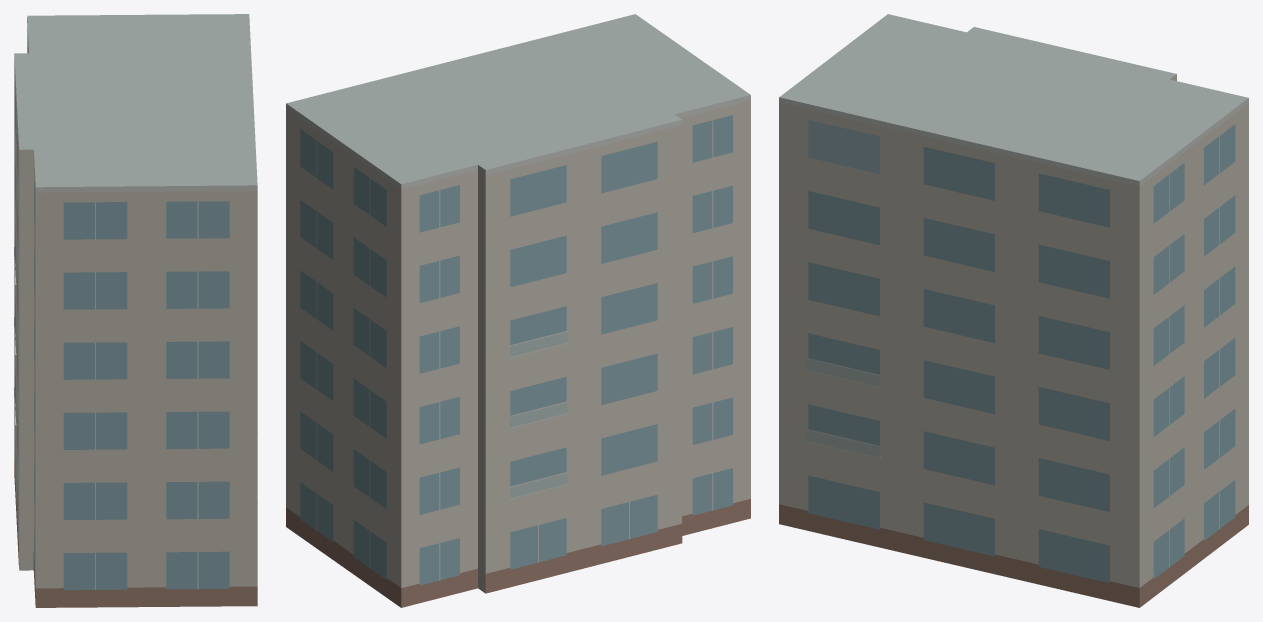
The model's file is survey-upis-32953250.glb.
The picture shows the model from 3 angles, left to right: view 1: azimuth 30°, elevation 25°; view 2: azimuth 150°, elevation 25°; view 3: azimuth 270°, elevation 25°; orthographic projection.
Parts seen in each view (by area): view 1: survey-upis-32953250.tmp; view 2: survey-upis-32953250.tmp; view 3: survey-upis-32953250.tmp.
Part boxes in pixels (<box>): survey-upis-32953250.tmp: <box>14,14,257,607</box>; survey-upis-32953250.tmp: <box>286,14,750,607</box>; survey-upis-32953250.tmp: <box>779,14,1248,607</box>.
Bounding box in the file's own units: 16.09 × 19.15 × 19.11.
